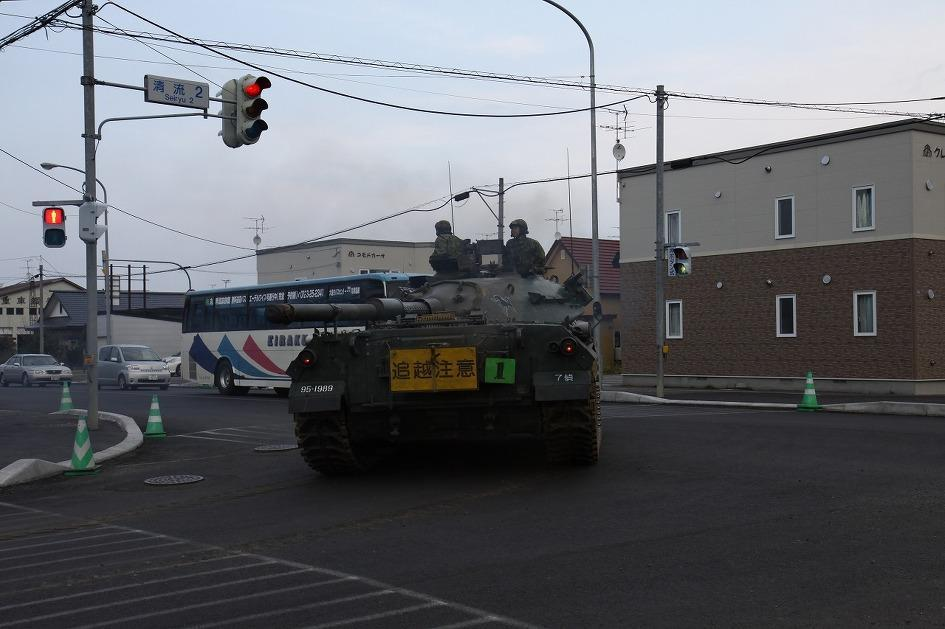MIL_IFV: (284, 221, 608, 481)
